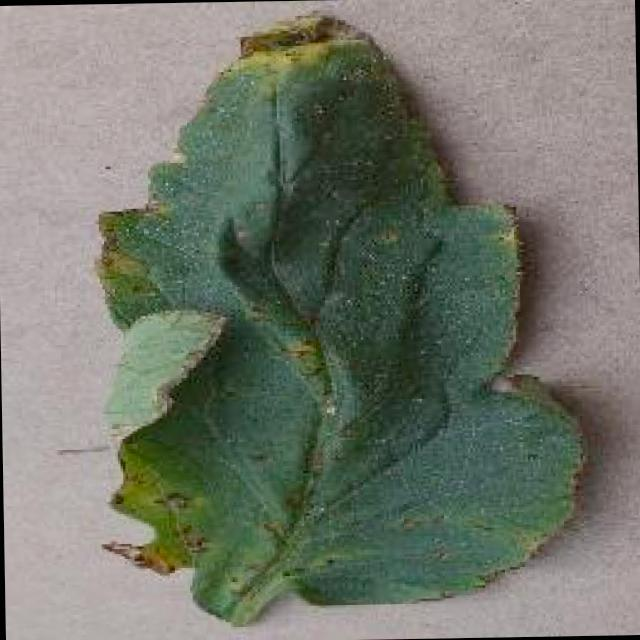Tomato bacterial spot leaf: (75, 0, 598, 636)
